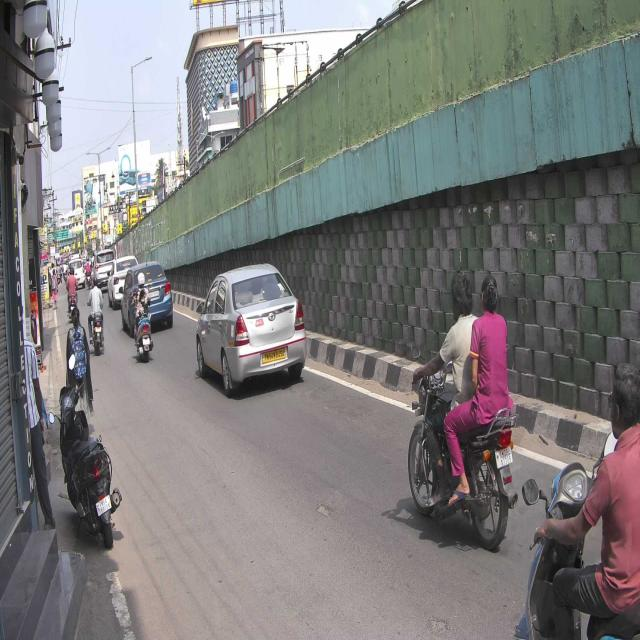double_rider: (405, 269, 519, 551)
